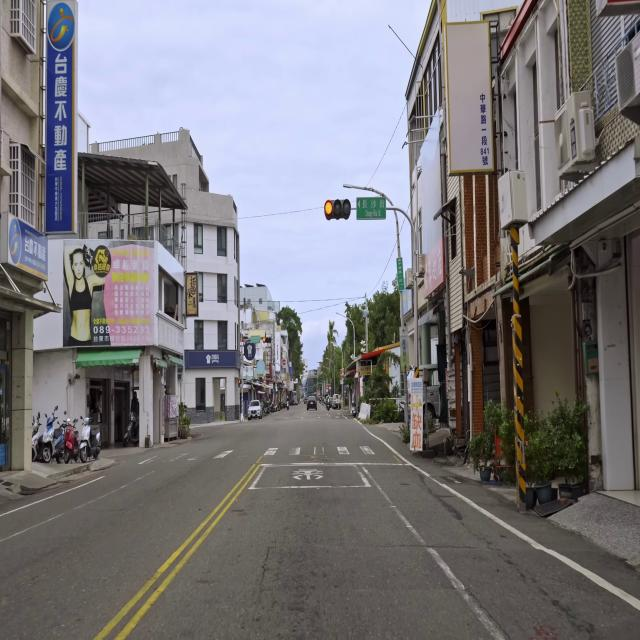red light: (324, 200, 351, 218), (262, 337, 272, 343)
